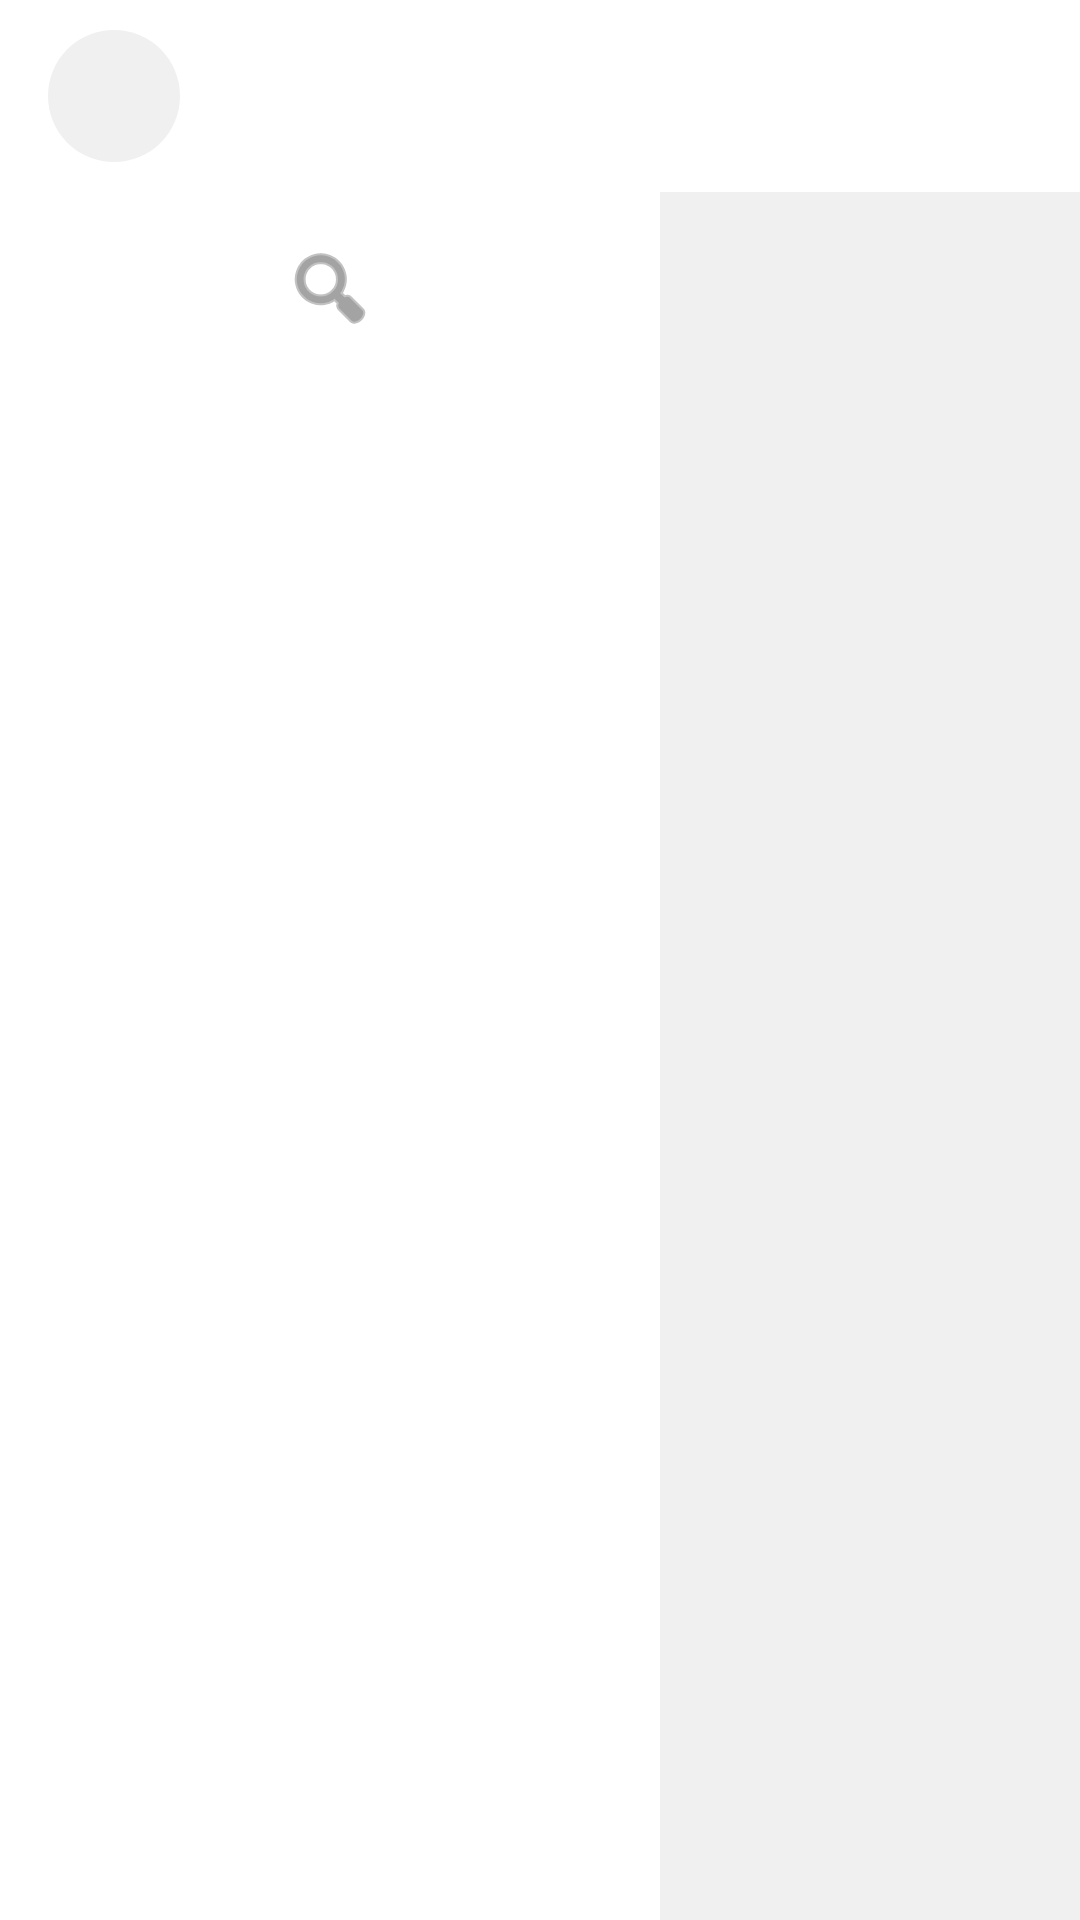

Point at icon controls on the screen. Image size 1080×1920, points as (x,y).
Buscar: (330,288)
